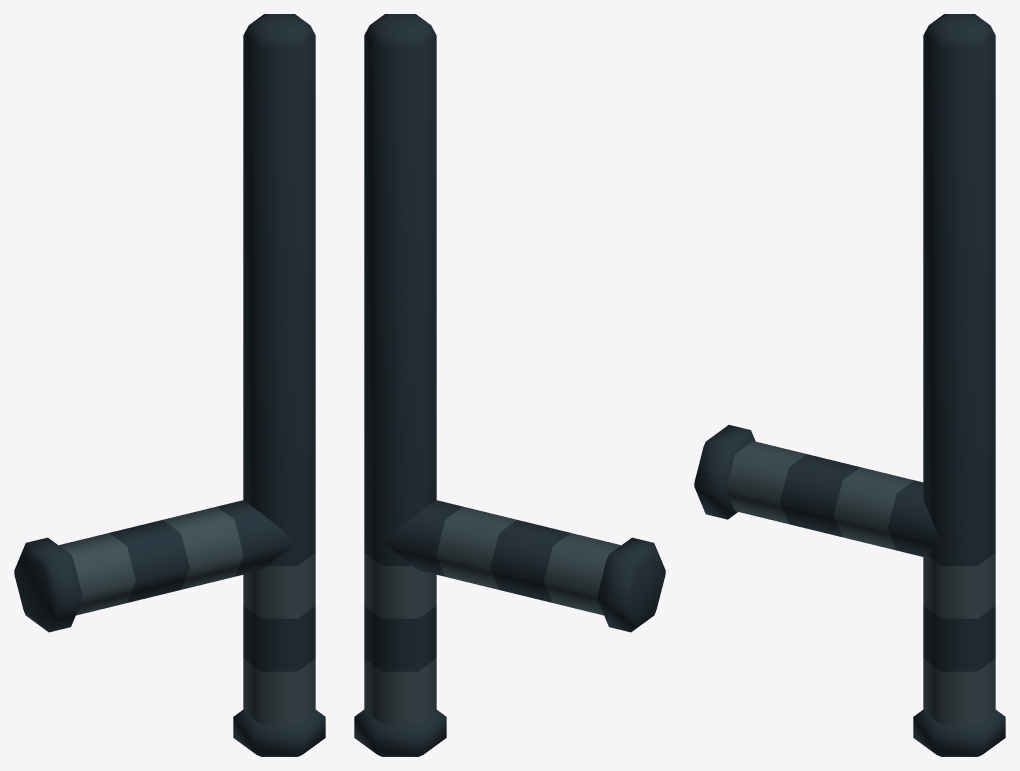
The model's file is Baton.fbx.
The picture shows the model from 3 angles, left to right: view 1: azimuth 30°, elevation 25°; view 2: azimuth 150°, elevation 25°; view 3: azimuth 330°, elevation 25°; orthographic projection.
Parts seen in each view (by area): view 1: Baton; view 2: Baton; view 3: Baton.
Boxes of the visible parts, <box> form: Baton: <box>14,14,325,756</box>; Baton: <box>354,14,665,756</box>; Baton: <box>694,14,1005,756</box>.
Size of the model in its own units: 24.01 by 58.88 by 6.83.
